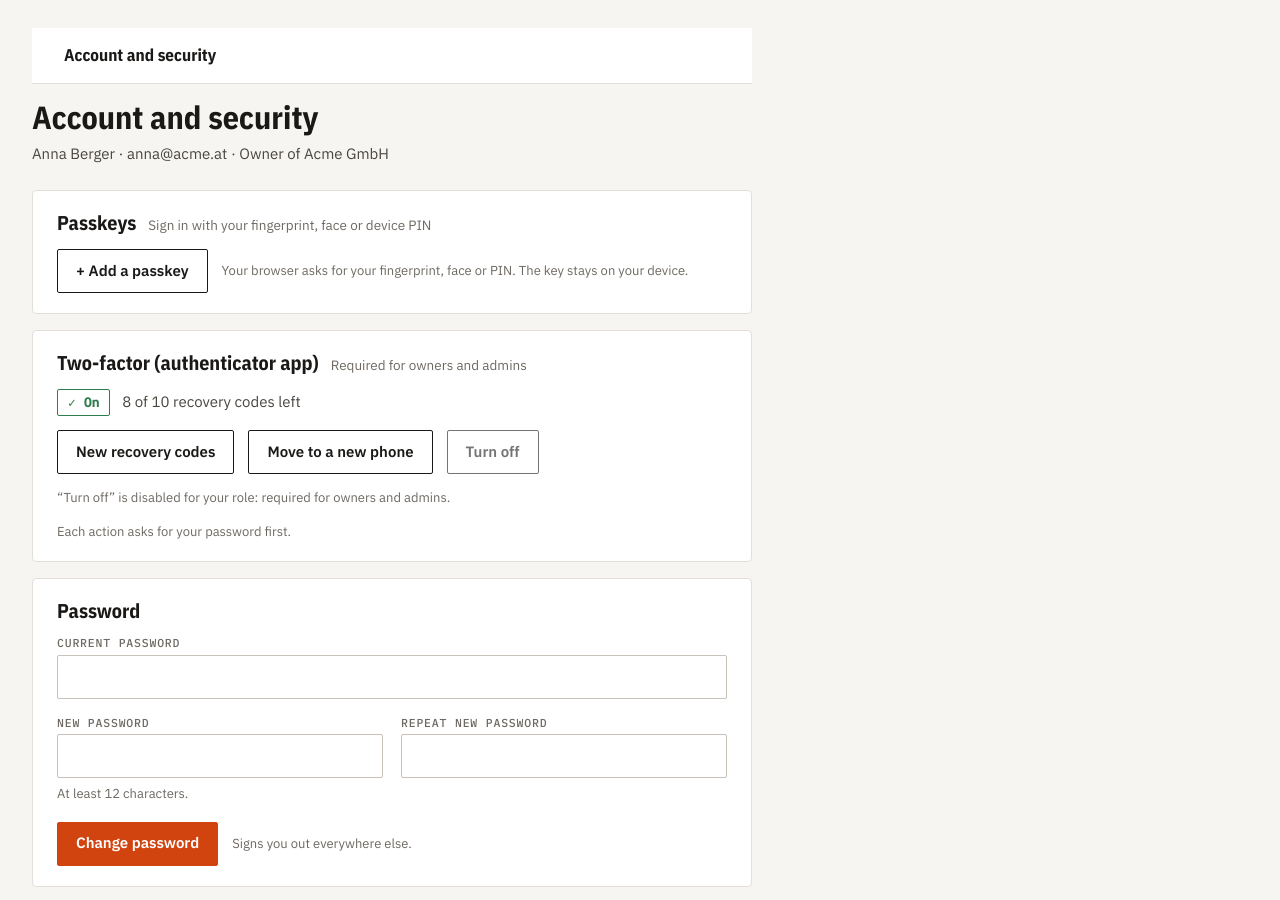
Scenario: AccountSecurityPage (W4) › shows new recovery codes once, after the password
The image size is (1280, 900).
Click the button "New recovery codes": x=146, y=452 [57, 430, 234, 474]
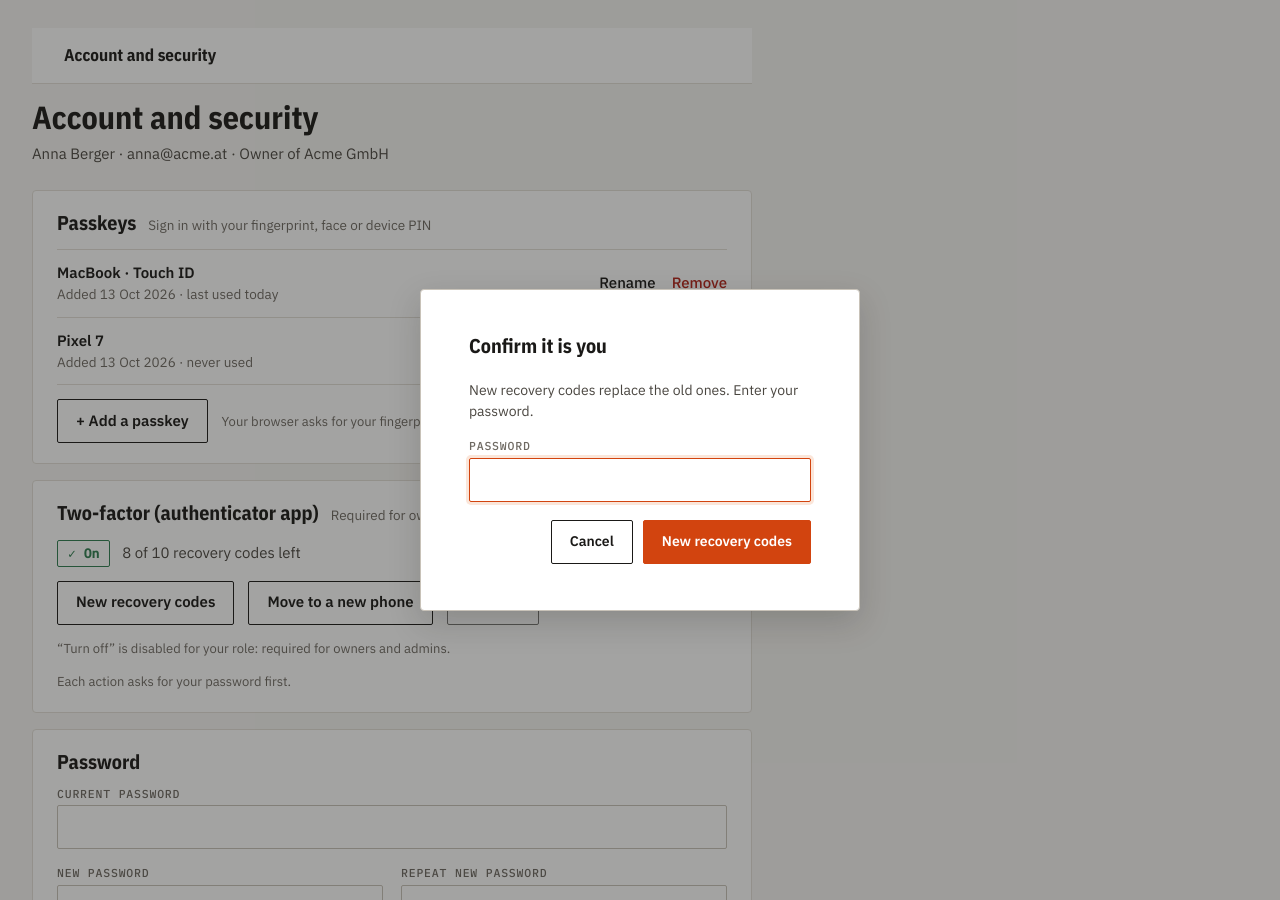
In the password field labelled "Password": x=640, y=480 [469, 458, 811, 502], type "correct horse battery"
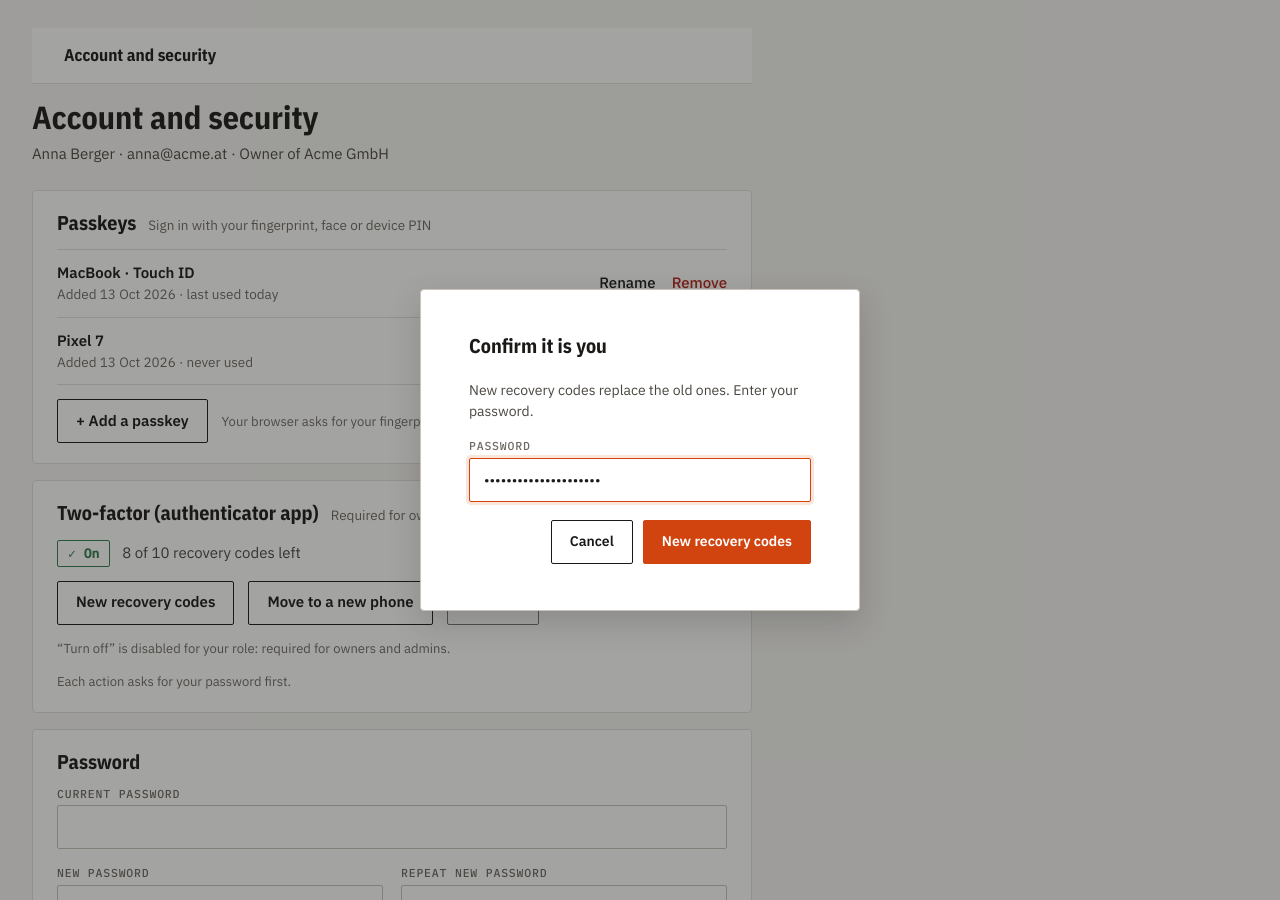
Submit the form labelled "password", box [469, 388, 811, 564]
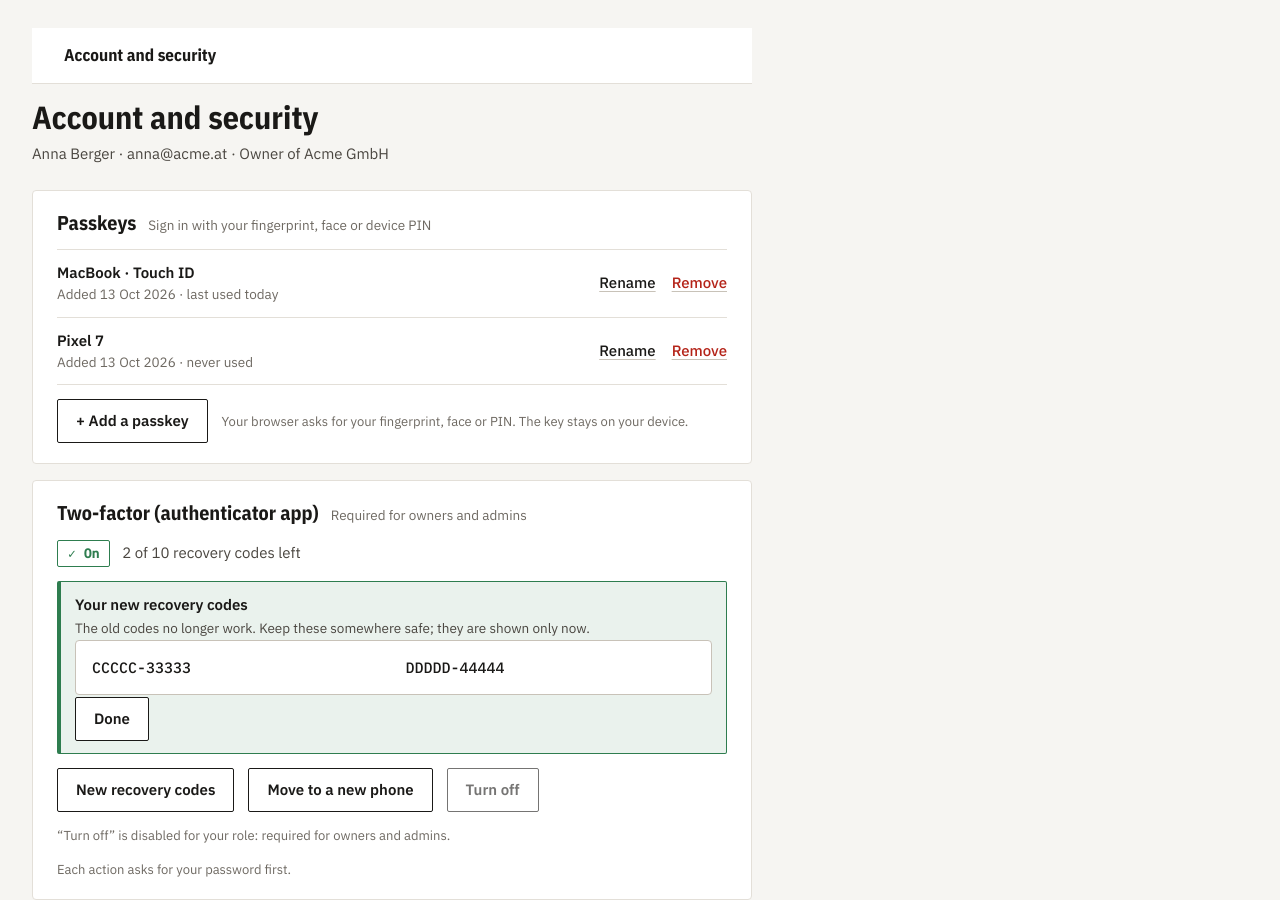
Result: the list item "CCCCC-33333" is shown at [92, 658, 191, 677]
